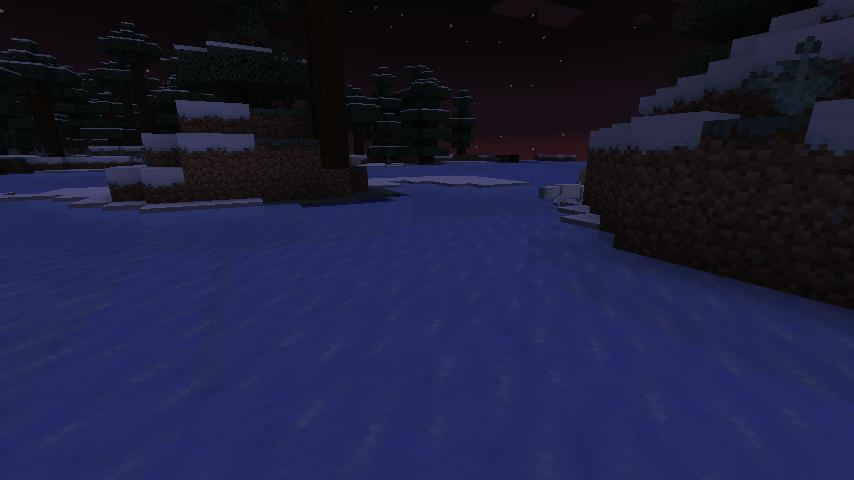fox: (537, 177, 591, 215)
